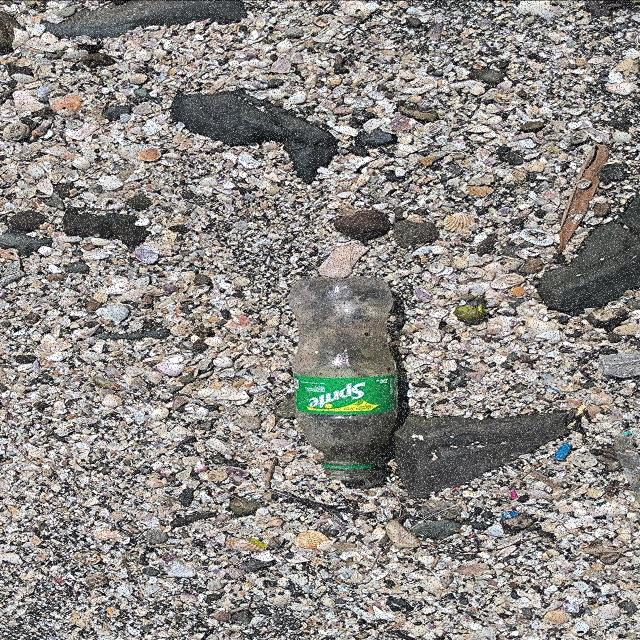plastic_waste: (288, 276, 401, 482)
